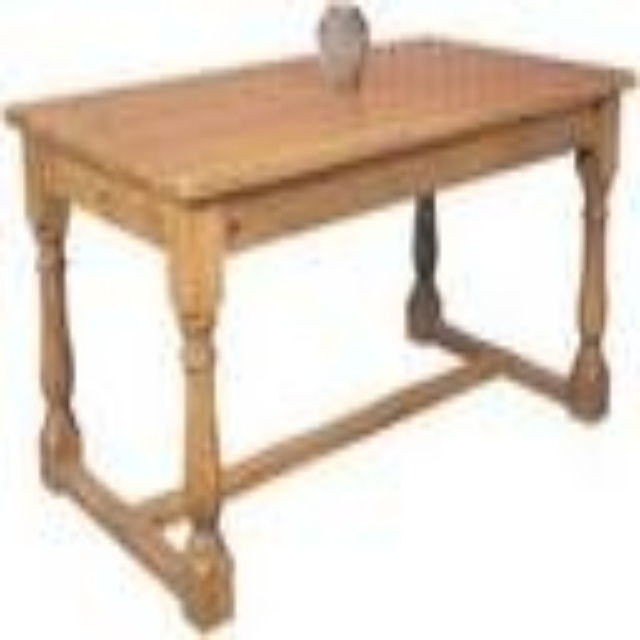obstacle: (0, 7, 635, 626)
